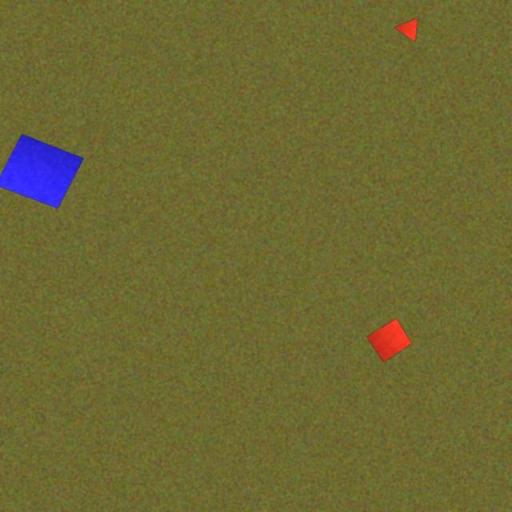BLUE_SQUARE: (0, 133, 85, 209)
RED_SQUARE: (366, 318, 412, 363)
